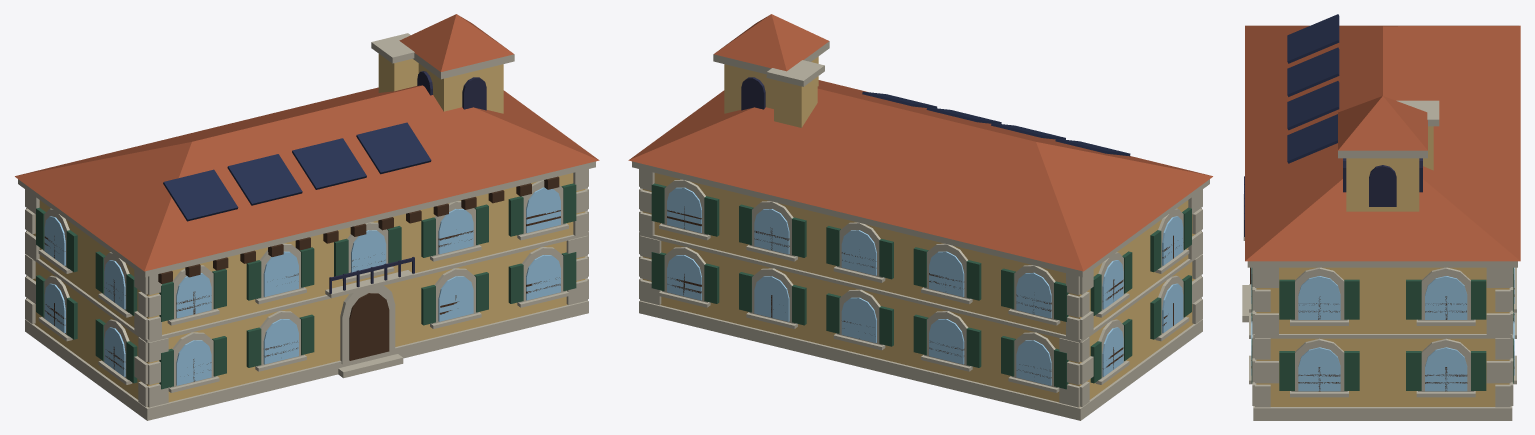
The model's file is house-2x1-2f-third-tuscan-a-solar.glb.
3 views of the same model, side by side, from view 1: azimuth 30°, elevation 25°; view 2: azimuth 150°, elevation 25°; view 3: azimuth 270°, elevation 25° (orthographic). The views are drawn at different scales.
Parts seen in each view (by area): view 1: house-2x1-2f-third-tuscan-a-solar; view 2: house-2x1-2f-third-tuscan-a-solar; view 3: house-2x1-2f-third-tuscan-a-solar.
Part boxes in pixels (x1,y1,x2,y2): house-2x1-2f-third-tuscan-a-solar: (15,14,599,420); house-2x1-2f-third-tuscan-a-solar: (628,14,1212,420); house-2x1-2f-third-tuscan-a-solar: (1242,14,1520,420).
Size of the model in its own units: 1.98 by 1.13 by 0.99.
1 material, 1 textured.
